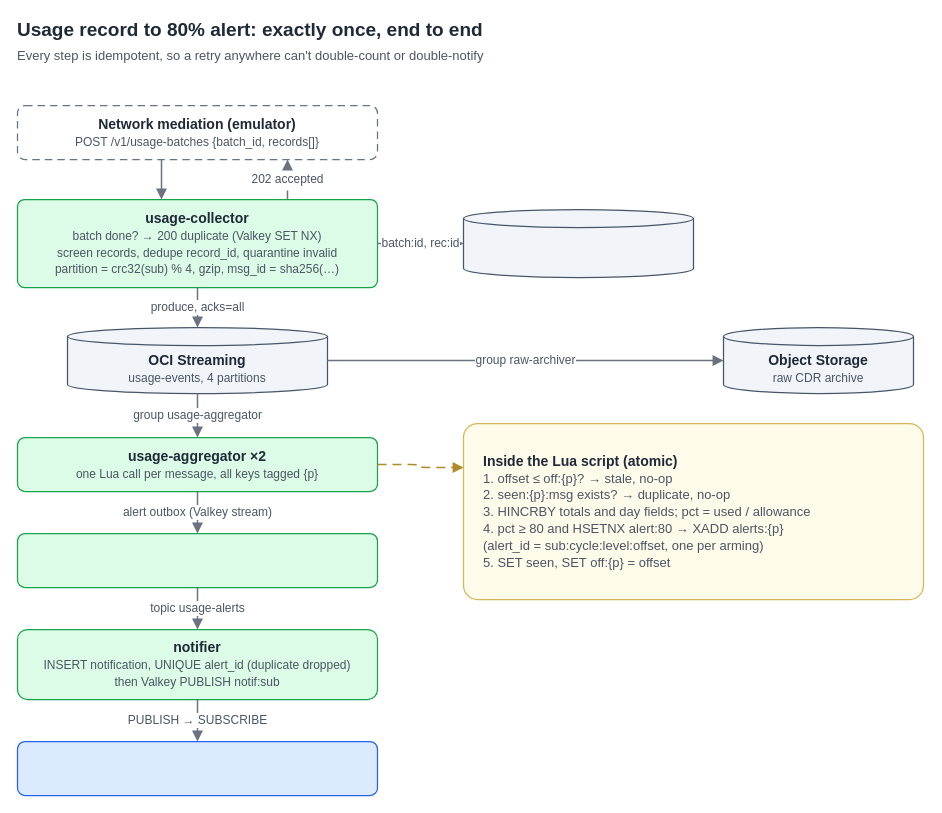
Some shapes in this 942 by 813 pixel diagram are drawn without their labels. Each missing label, with the box of its shape:
alert-relay Valkey stream alerts:{p} → topic usage-alerts, then XACK: (16, 532, 378, 588)
core-api SSE → browser toast + page data refreshed: (16, 740, 378, 796)
Valkey counters, idempotency keys: (462, 208, 694, 278)
